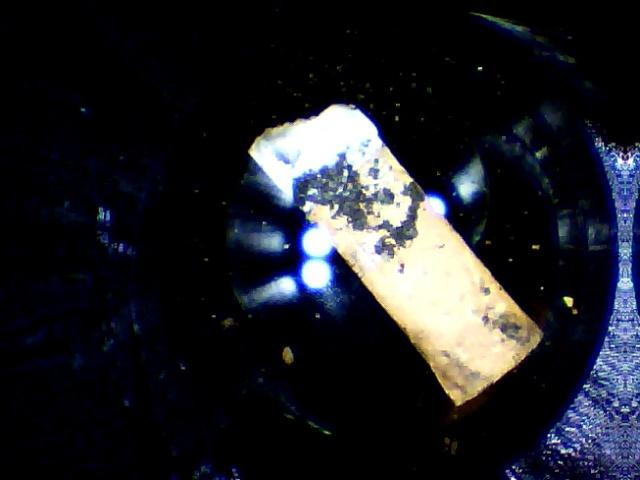megot: (239, 97, 554, 408)
